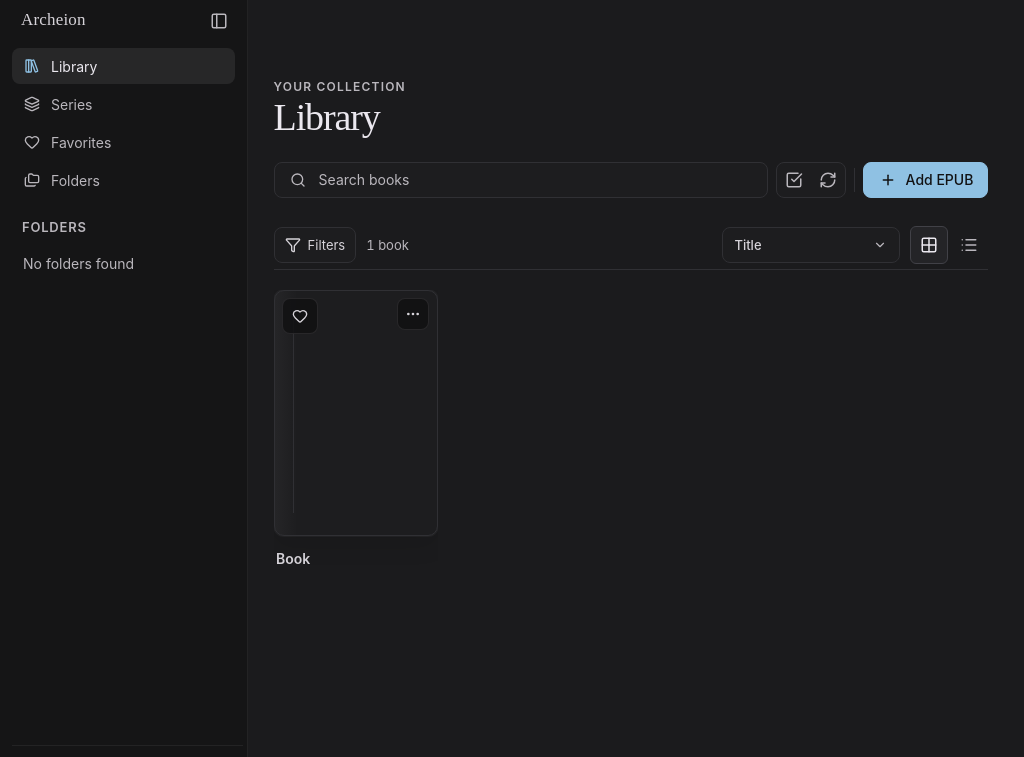
Test: LibraryPage dialogs and book actions › keeps a failed EPUB rename in the dialog instead of duplicating feedback
Click the button named "Actions for Book": {"x": 413, "y": 314} [397,298,429,330]
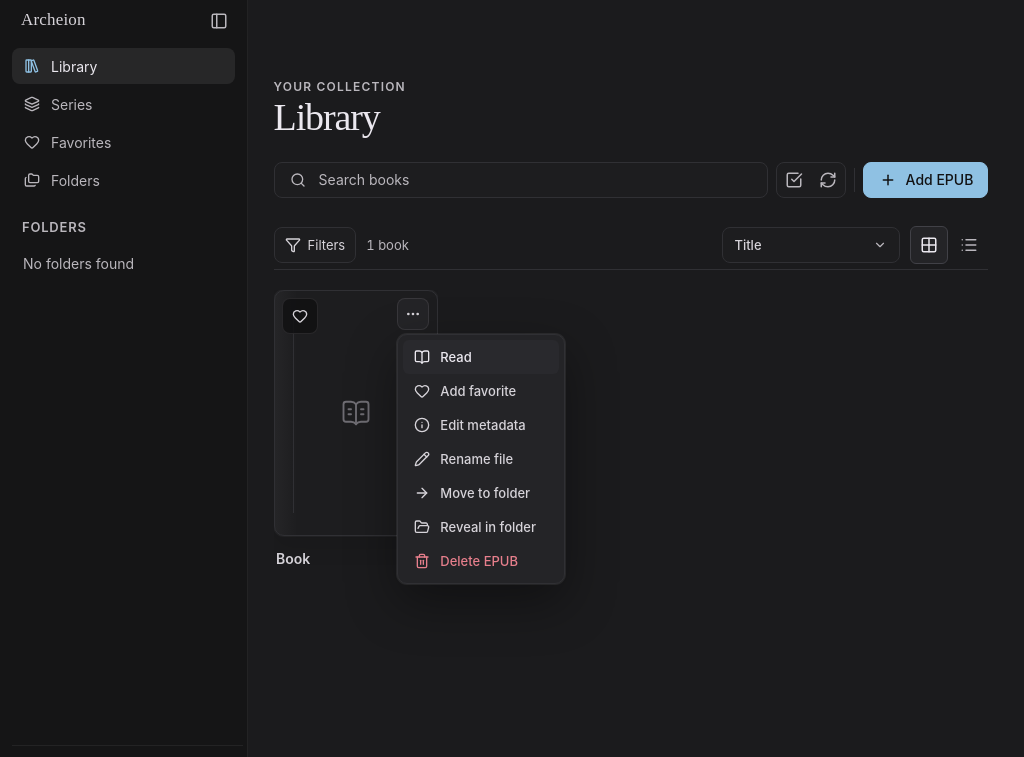
Click the menu item "Rename file": {"x": 481, "y": 459} [403,442,559,476]
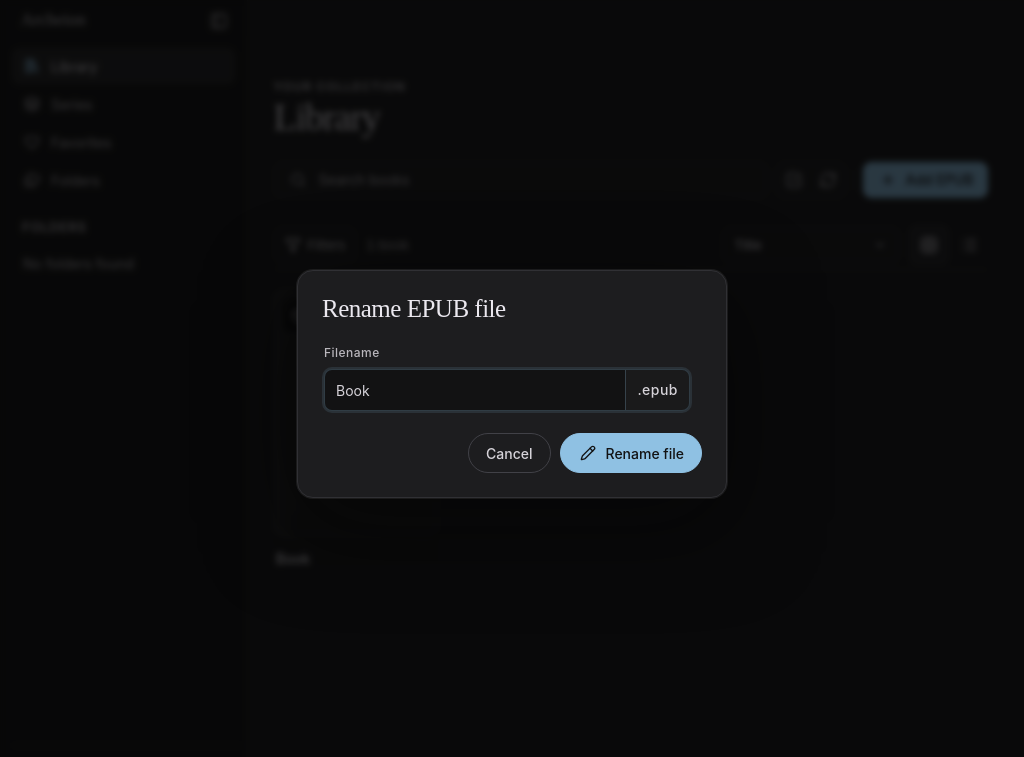
Click the button "Rename file": {"x": 631, "y": 453} [560,433,702,473]
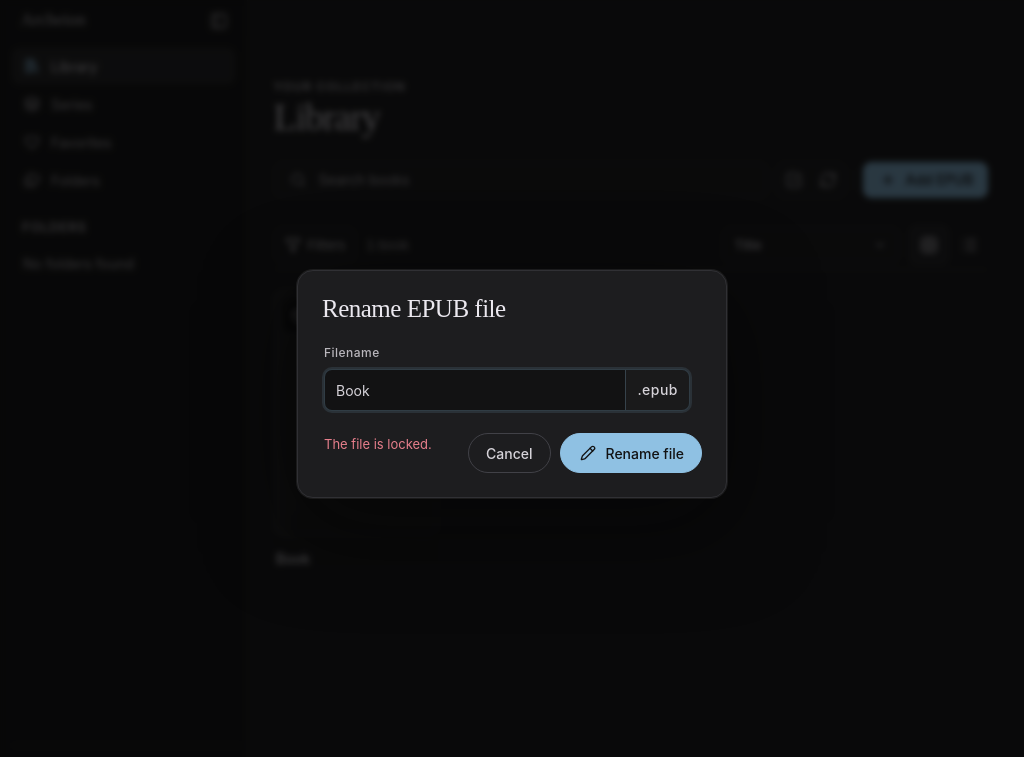
Expected: the dialog is shown, [297,270,727,498]
Expected: the message "The file is locked." is shown, [324,435,444,455]
